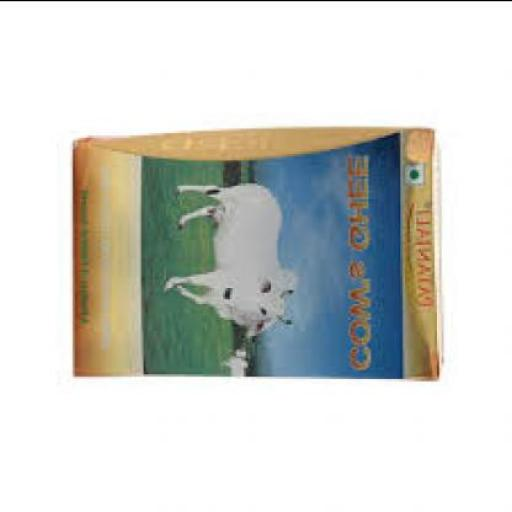cardboard: (75, 125, 446, 382)
